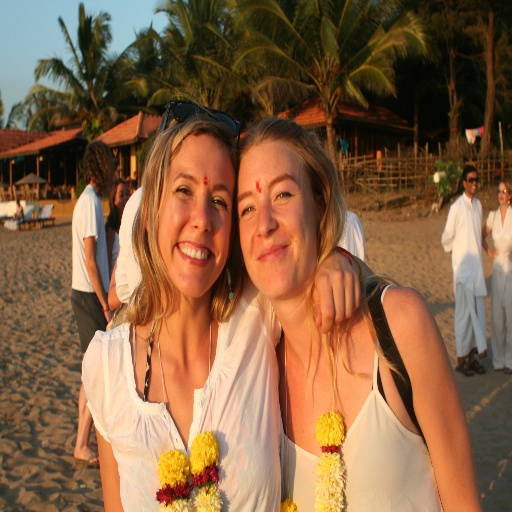hand: (308, 250, 376, 355), (101, 302, 112, 325), (490, 245, 501, 260), (506, 252, 511, 260)
